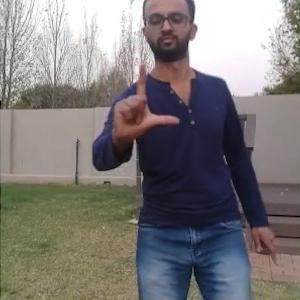land_hand: (108, 58, 182, 148)
